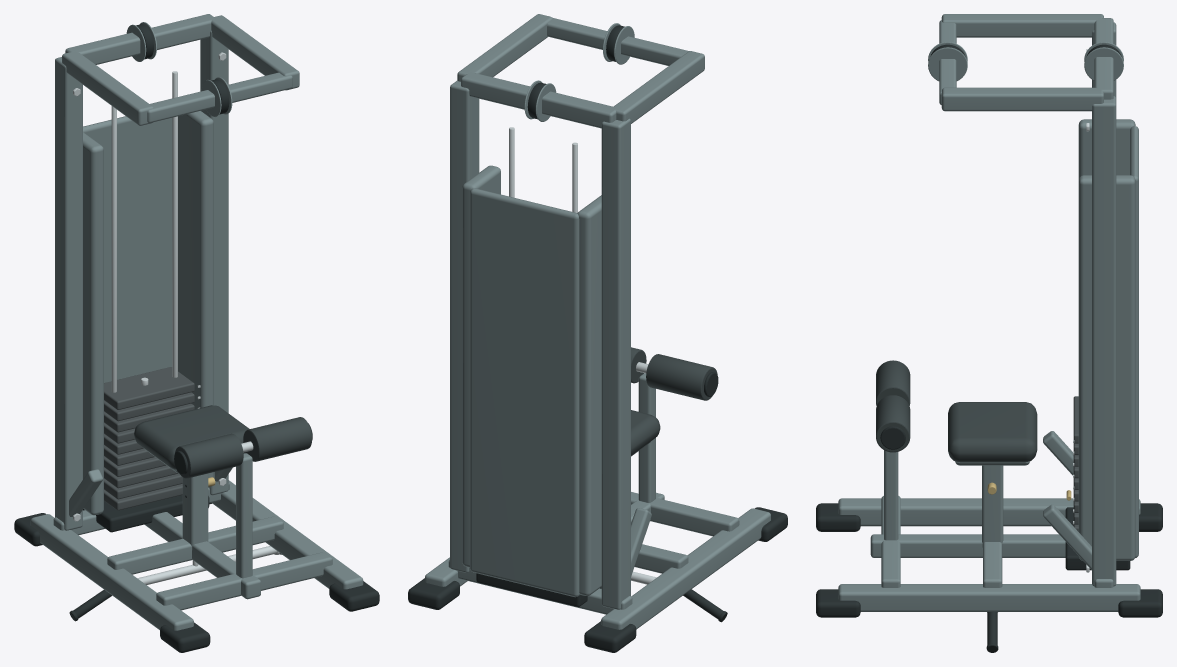
File: lat-pulldown.v1.glb
3 views of the same model, side by side, from view 1: azimuth 30°, elevation 25°; view 2: azimuth 150°, elevation 25°; view 3: azimuth 270°, elevation 25° (orthographic). The views are drawn at different scales.
Parts seen in each view (by area): view 1: Static_frame, Weights_stack, Static_pad, Static_rubber, Static_chrome, Handles_chrome; view 2: Static_frame, Static_rubber, Static_pad, Static_chrome; view 3: Static_frame, Static_pad, Static_rubber, Weights_stack.
Boxes of the visible parts, box(x1,y1,x2,y2) form: Static_frame: box(30, 14, 363, 630); Weights_stack: box(104, 367, 194, 510); Static_pad: box(134, 405, 312, 478); Static_rubber: box(14, 24, 379, 652); Static_chrome: box(73, 52, 253, 521); Handles_chrome: box(137, 546, 279, 584); Static_frame: box(425, 14, 770, 629); Static_rubber: box(408, 25, 787, 652); Static_pad: box(631, 347, 717, 455); Static_chrome: box(509, 127, 648, 373); Static_frame: box(838, 14, 1140, 611); Static_pad: box(876, 360, 1037, 462); Static_rubber: box(816, 44, 1162, 617); Weights_stack: box(1073, 396, 1078, 531).
Bounding box in the file's own units: 1.47 × 2.98 × 1.71.
